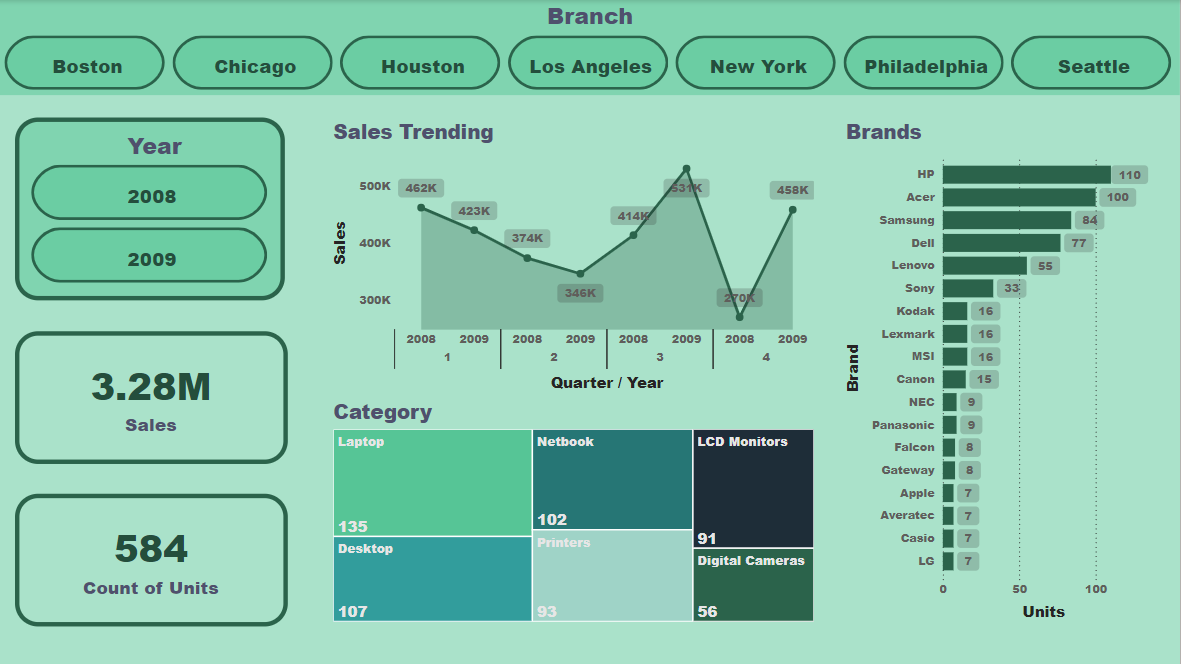

What the dashboard file says about the page in this screenshot:
{"tool":"powerbi","page":{"name":"Page 1","canvas":[1280,720],"ordinal":0},"visuals":[{"type":"advancedSlicerVisual","title":"Branch","fields":{"Values":["Sales Data.Branch"]},"box":[0,0,1280,100.1],"z":0},{"type":"card","title":"Sales","fields":{"Values":["Sum(Sales Data.Sales)"]},"box":[12.1,359.5,296.8,143.6],"z":1000},{"type":"card","title":"Sales","fields":{"Values":["CountNonNull(Sales Data.Units)"]},"box":[14.5,535.7,296.8,143.6],"z":2000},{"type":"lineChart","title":"Sales Trending","fields":{"Y":["Sum(Sales Data.Sales)"],"Category":["Sales Data.Qrt","Sales Data.Date.Variation.Date Hierarchy.Year"]},"box":[357.1,115.8,530.8,314.9],"z":3000},{"type":"advancedSlicerVisual","title":"Year","fields":{"Values":["Sales Data.Year"]},"box":[15.7,115.8,293.2,197.9],"z":4000},{"type":"treemap","title":"Category","fields":{"Group":["Sales Data.Category"],"Values":["CountNonNull(Sales Data.Units)"]},"box":[357.1,430.7,530.8,248.5],"z":5000},{"type":"clusteredBarChart","title":"Brands","fields":{"Category":["Sales Data.Brand"],"Y":["CountNonNull(Sales Data.Units)"]},"box":[913.3,115.8,346.2,563.4],"z":6000}]}

Visuals, with their boxes in screenshot pixels (x1, y1, x2, y2), scaled from the page's 1280x720 canvas onto the 1181x664 screenshot:
"Branch" advancedSlicerVisual: {"left": 0, "top": 0, "right": 1180, "bottom": 92}
"Sales" card: {"left": 11, "top": 332, "right": 285, "bottom": 464}
"Sales" card: {"left": 13, "top": 494, "right": 287, "bottom": 626}
"Sales Trending" lineChart: {"left": 329, "top": 107, "right": 819, "bottom": 397}
"Year" advancedSlicerVisual: {"left": 14, "top": 107, "right": 285, "bottom": 289}
"Category" treemap: {"left": 329, "top": 397, "right": 819, "bottom": 626}
"Brands" clusteredBarChart: {"left": 843, "top": 107, "right": 1162, "bottom": 626}
